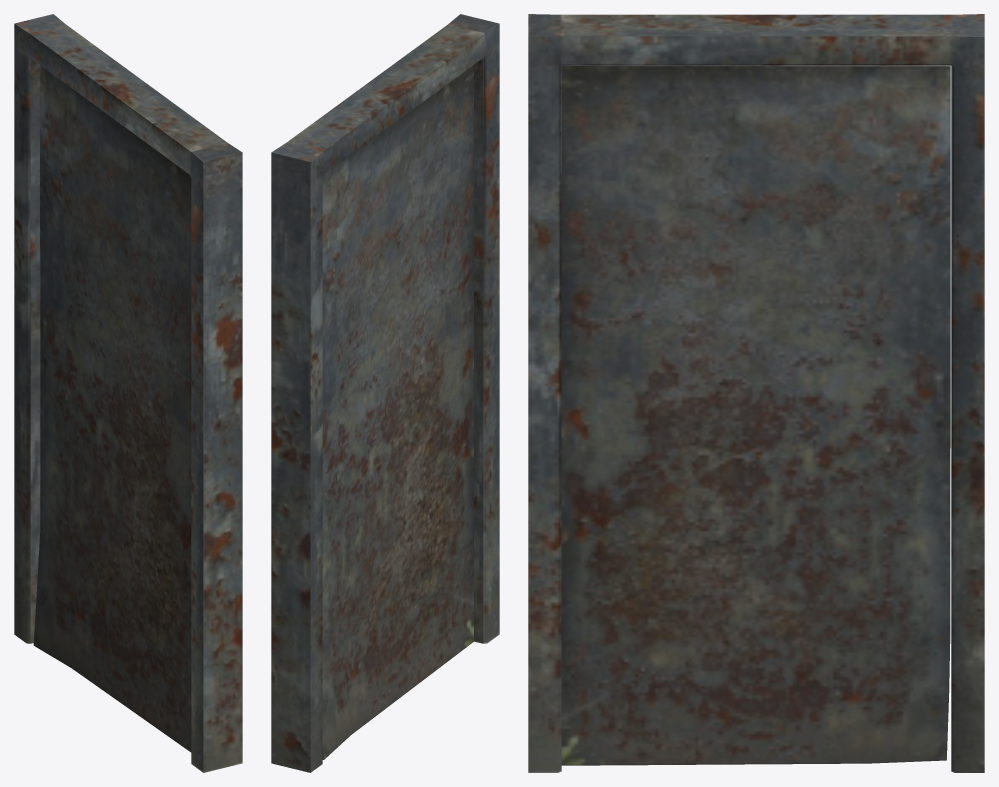
File: Metal_SingleDoorSet.FBX
3 renders of one model, left to right at view 1: azimuth 30°, elevation 25°; view 2: azimuth 150°, elevation 25°; view 3: azimuth 270°, elevation 25°, orthographic. The views are drawn at different scales.
Parts seen in each view (by area): view 1: Metal_SingleDoor, Metal_SingleDoorFrame; view 2: Metal_SingleDoor, Metal_SingleDoorFrame; view 3: Metal_SingleDoor, Metal_SingleDoorFrame.
Boxes of the visible parts, left/top/right/bottom form: Metal_SingleDoor: left=33, top=65, right=191, bottom=752; Metal_SingleDoorFrame: left=14, top=14, right=242, bottom=772; Metal_SingleDoor: left=322, top=65, right=473, bottom=759; Metal_SingleDoorFrame: left=271, top=14, right=499, bottom=772; Metal_SingleDoor: left=561, top=65, right=950, bottom=765; Metal_SingleDoorFrame: left=528, top=14, right=984, bottom=772.
Size of the model in its own units: 15 by 223 by 125.
